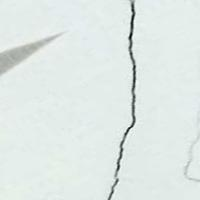crack: (99, 0, 163, 199)
